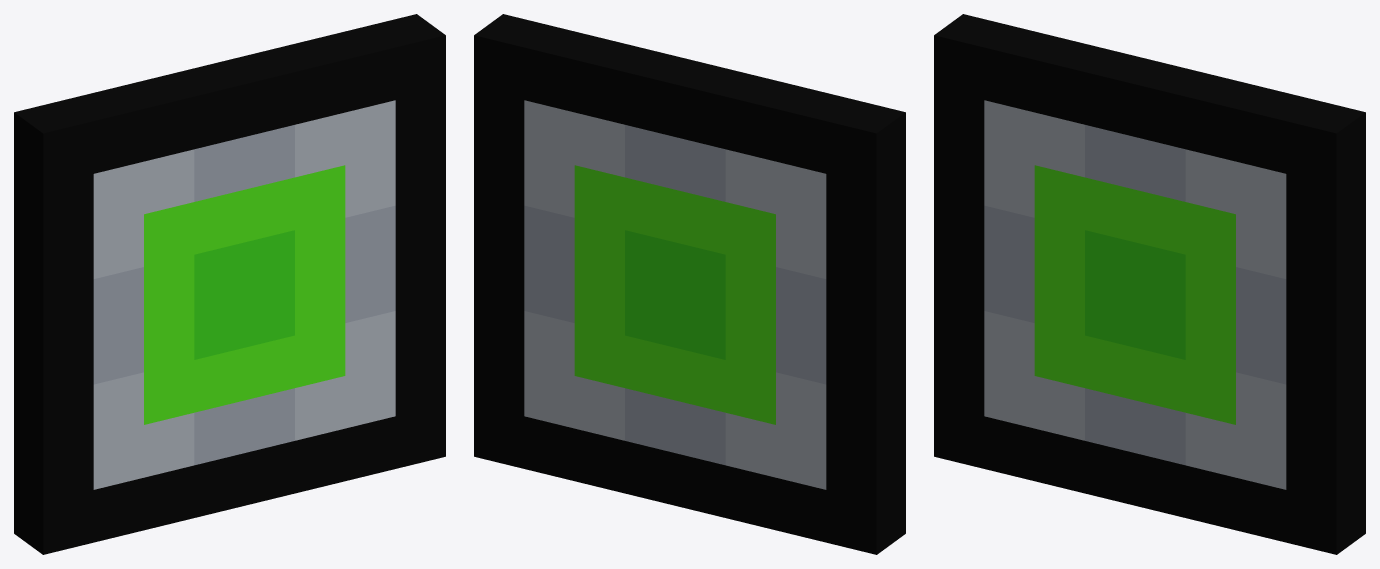
File: Jump Pad.glb
The picture shows the model from 3 angles, left to right: view 1: azimuth 30°, elevation 25°; view 2: azimuth 150°, elevation 25°; view 3: azimuth 330°, elevation 25°; orthographic projection.
Parts seen in each view (by area): view 1: generated(Clone); view 2: generated(Clone); view 3: generated(Clone).
Boxes of the visible parts, x1,y1,x2,y2 form: generated(Clone): [14, 14, 445, 554]; generated(Clone): [474, 14, 905, 554]; generated(Clone): [934, 14, 1365, 554].
Bounding box in the file's own units: 8 × 8 × 1.
1 material, 1 textured.
